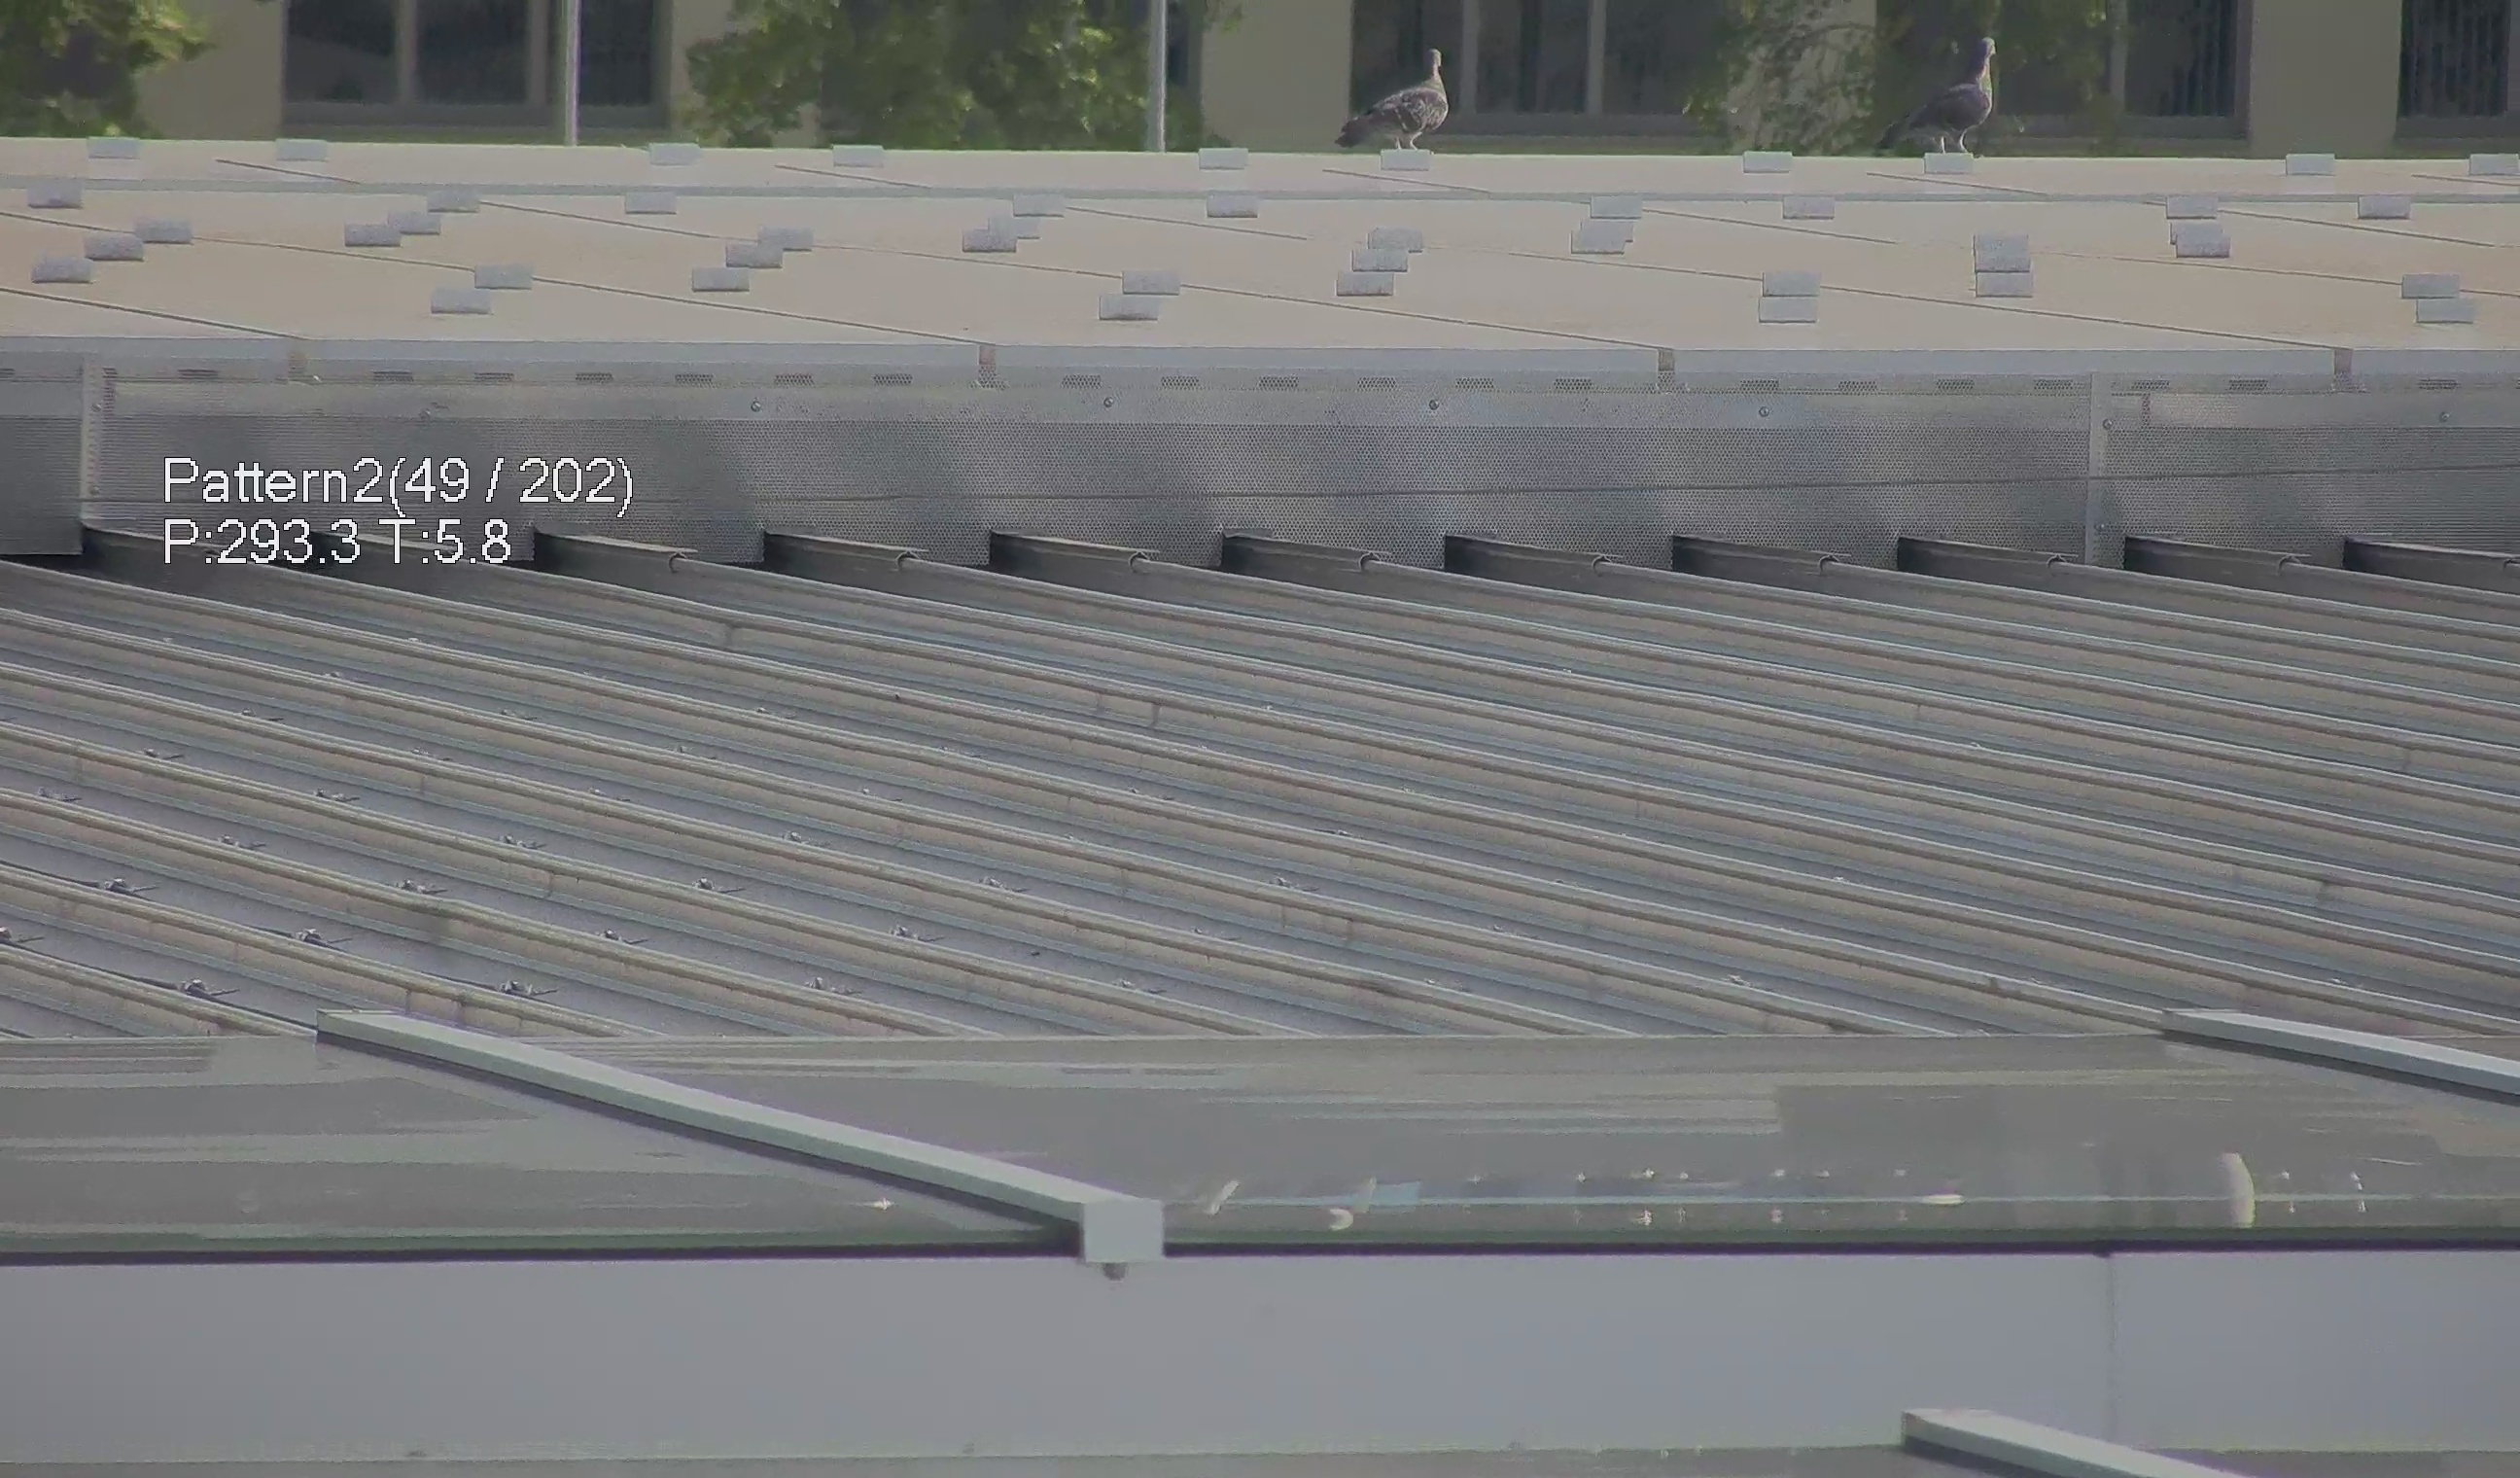Pigeon: (1331, 32, 1467, 165), (1894, 26, 2022, 162)
